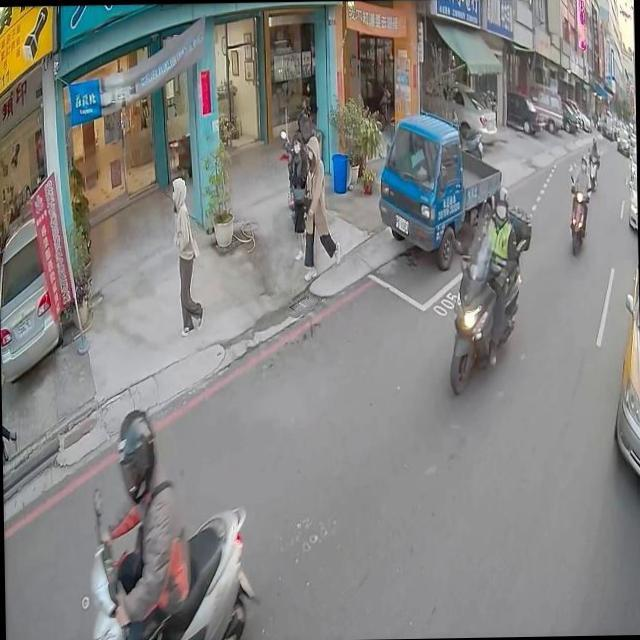person: (89, 410, 191, 640), (447, 184, 523, 362), (166, 172, 208, 334), (296, 126, 340, 280), (287, 125, 326, 263), (568, 148, 594, 202), (586, 135, 600, 166)
